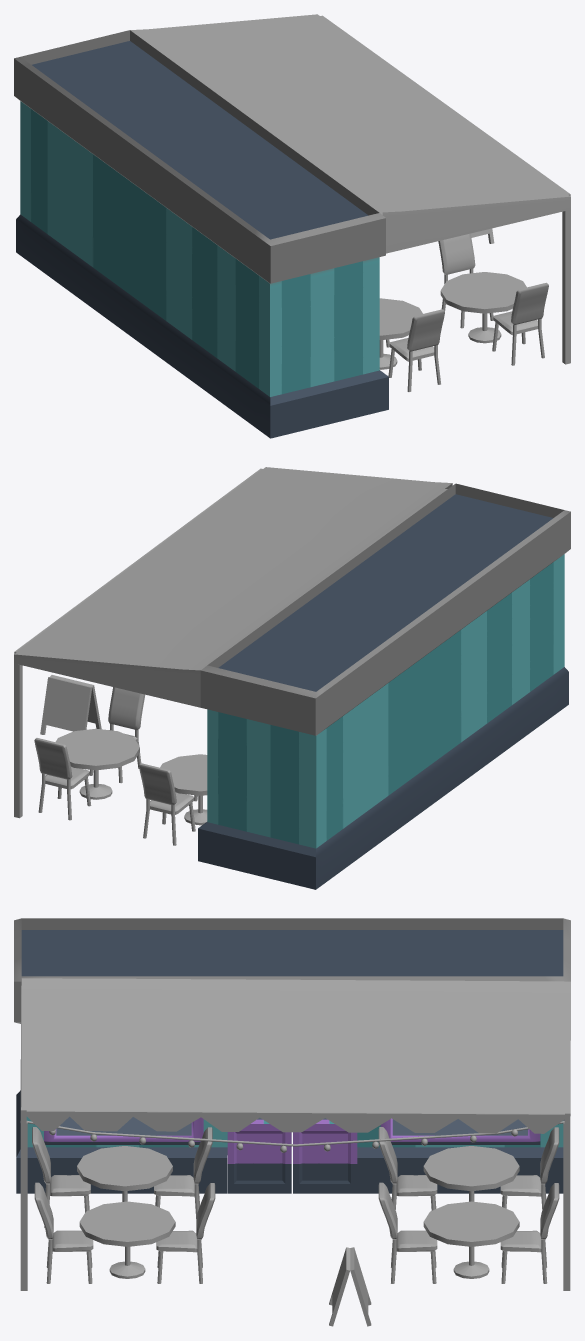
The model's file is Restaurant.fbx.
The picture shows the model from 3 angles, top to bottom: view 1: azimuth 30°, elevation 25°; view 2: azimuth 150°, elevation 25°; view 3: azimuth 270°, elevation 25°; orthographic projection. The views are drawn at different scales.
Parts seen in each view (by area): view 1: RestaurantBuilding, Awning, polySurface33, AwningLeg1; view 2: RestaurantBuilding, Awning, polySurface33, SandwichBoard, AwningLeg, SandwichBoardLegs; view 3: Awning, RestaurantBuilding, polySurface33, Door1, Door, windowlargeglass1, windowlargeglass, StringLights, AwningLeg, AwningLeg1, SandwichBoardLegs.
Part boxes in pixels (x1,y1,x2,y2): RestaurantBuilding: [14, 30, 388, 438]; Awning: [130, 14, 570, 253]; polySurface33: [379, 233, 548, 391]; AwningLeg1: [562, 209, 570, 364]; RestaurantBuilding: [198, 483, 570, 889]; Awning: [14, 467, 452, 707]; polySurface33: [34, 687, 207, 845]; SandwichBoard: [45, 677, 88, 731]; AwningLeg: [14, 663, 22, 818]; SandwichBoardLegs: [40, 675, 101, 734]; Awning: [20, 978, 570, 1133]; RestaurantBuilding: [14, 918, 570, 1193]; polySurface33: [32, 1127, 559, 1283]; Door1: [293, 1119, 357, 1193]; Door: [227, 1119, 291, 1193]; windowlargeglass1: [44, 1116, 203, 1144]; windowlargeglass: [380, 1118, 540, 1144]; StringLights: [27, 1121, 564, 1152]; AwningLeg: [563, 1120, 570, 1290]; AwningLeg1: [20, 1120, 27, 1290]; SandwichBoardLegs: [329, 1247, 371, 1326].
Bounding box in the file's own units: 3.37 × 1.72 × 4.06.
